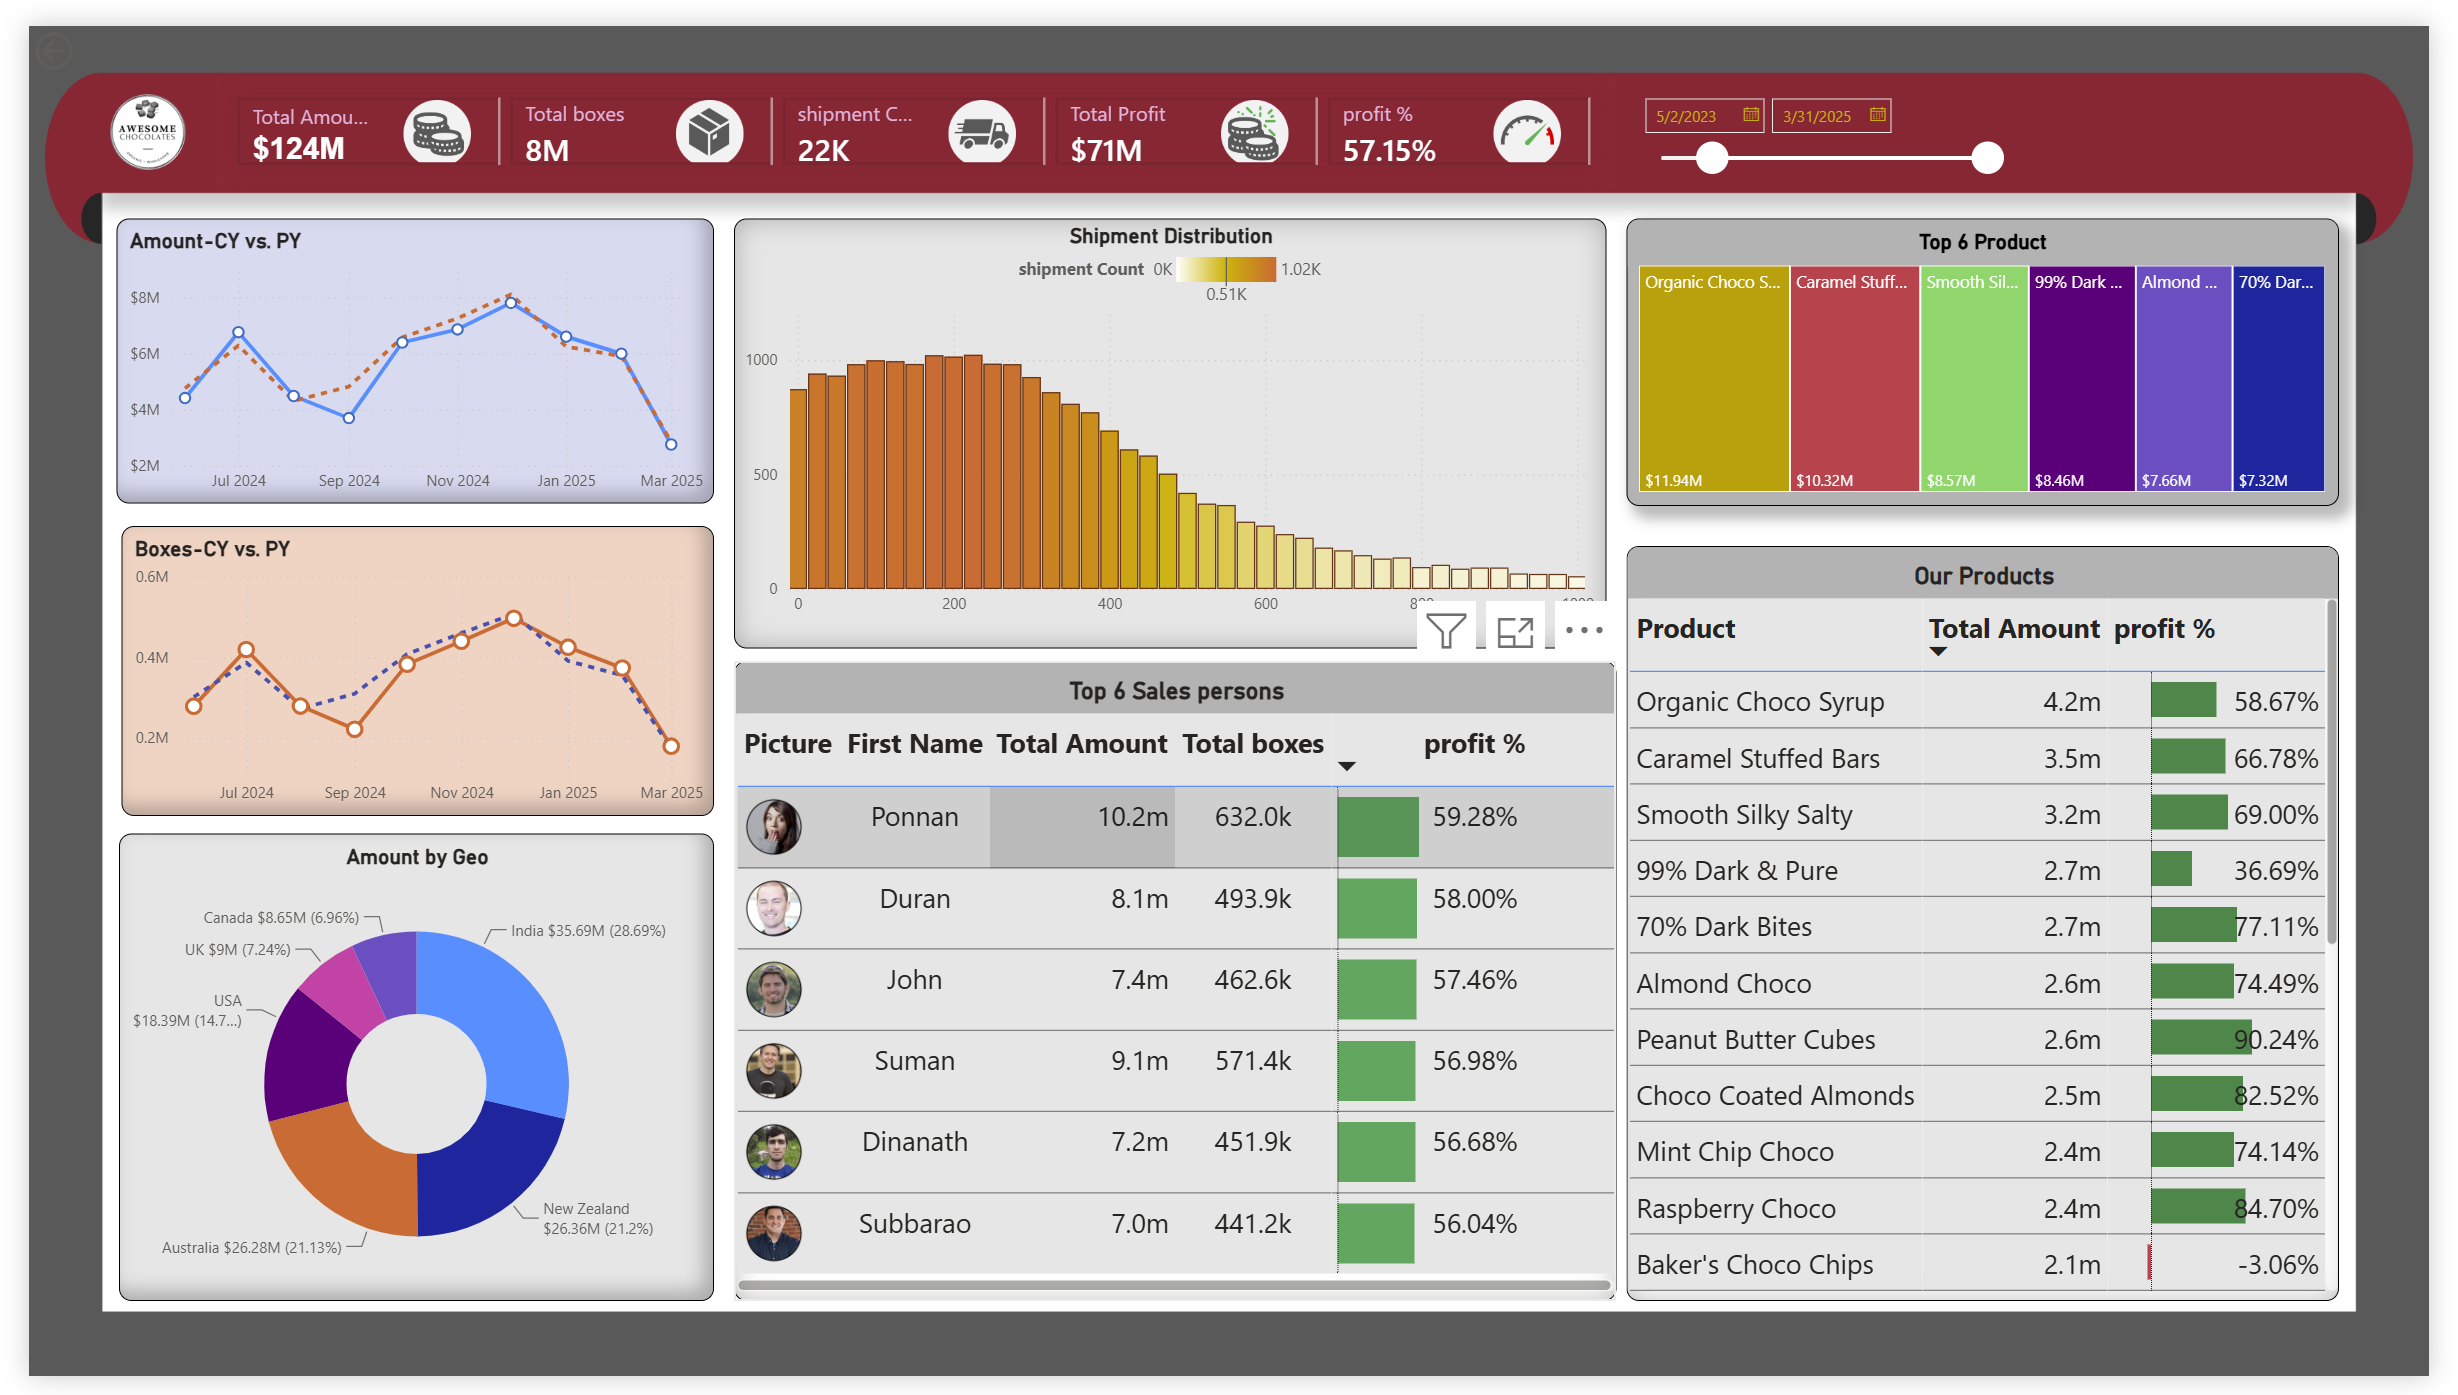

What the dashboard file says about the page in this screenshot:
{"tool":"powerbi","page":{"name":"Page 8","canvas":[1920,1080],"ordinal":7},"visuals":[{"type":"lineChart","title":"Amount-CY vs. PY","fields":{"Y":["shipments.Total Amount","shipments.Total amount(last year)"],"Category":["calendar.Start of Month"]},"box":[70,154,478,228],"z":0},{"type":"lineChart","title":"Boxes-CY vs. PY","fields":{"Category":["calendar.Start of Month"],"Y":["shipments.Total boxes","calendar.Total Boxes(last year)"]},"box":[74,400,474,232],"z":1000},{"type":"donutChart","title":"Amount by Geo","fields":{"Category":["locations.Geo"],"Y":["shipments.Total Amount"]},"box":[72,646,476,374],"z":2000},{"type":"clusteredColumnChart","title":"Shipment Distribution","fields":{"Category":["shipments.Boxes (bins)"],"Y":["shipments.shipment Count"]},"box":[564,154,698,344],"z":3000},{"type":"tableEx","title":"Top 6 Sales persons","fields":{"Values":["people.Picture","people.First Name","shipments.Total Amount","shipments.Total boxes","shipments.profit %"]},"box":[564,508,706,512],"z":4000},{"type":"treemap","title":"Top 6 Product","fields":{"Values":["shipments.Total Amount"],"Group":["products.Product"]},"box":[1278,154,570,230],"z":5000},{"type":"actionButton","box":[0,0,100,40],"z":6000},{"type":"tableEx","title":"Our Products","fields":{"Values":["products.Product","shipments.Total Amount","shipments.profit %"]},"box":[1278,416,570,604],"z":7000},{"type":"cardVisual","fields":{"Data":["shipments.Total Amount","shipments.Total boxes","shipments.shipment Count","shipments.Total Profit","shipments.profit %"]},"box":[150,40,1120,88],"z":8000},{"type":"slicer","fields":{"Values":["calendar.cal_date"]},"box":[1280,48,308,72],"z":9000}]}

Visuals, with their boxes in screenshot pixels (x1, y1, x2, y2), scaled from the page's 1920x1080 canvas onto the 2458x1395 screenshot:
"Amount-CY vs. PY" lineChart: bbox(90, 199, 702, 493)
"Boxes-CY vs. PY" lineChart: bbox(95, 517, 702, 816)
"Amount by Geo" donutChart: bbox(92, 834, 702, 1318)
"Shipment Distribution" clusteredColumnChart: bbox(722, 199, 1616, 643)
"Top 6 Sales persons" tableEx: bbox(722, 656, 1626, 1318)
"Top 6 Product" treemap: bbox(1636, 199, 2366, 496)
actionButton: bbox(0, 0, 128, 52)
"Our Products" tableEx: bbox(1636, 537, 2366, 1318)
cardVisual - shipments.Total Amount x shipments.Total boxes: bbox(192, 52, 1626, 165)
slicer - calendar.cal_date: bbox(1639, 62, 2033, 155)
